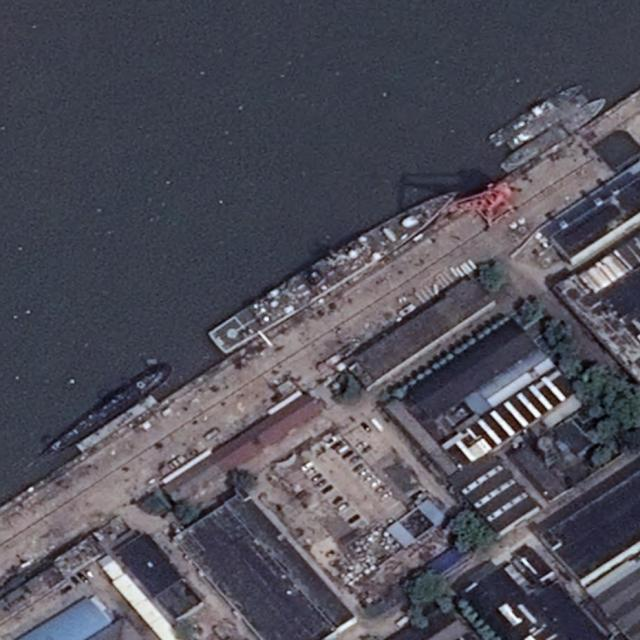Frigate: (209, 180, 465, 354)
Other Warship: (499, 96, 612, 175), (485, 78, 586, 149), (504, 89, 594, 153)
Submarine: (34, 354, 180, 462)
